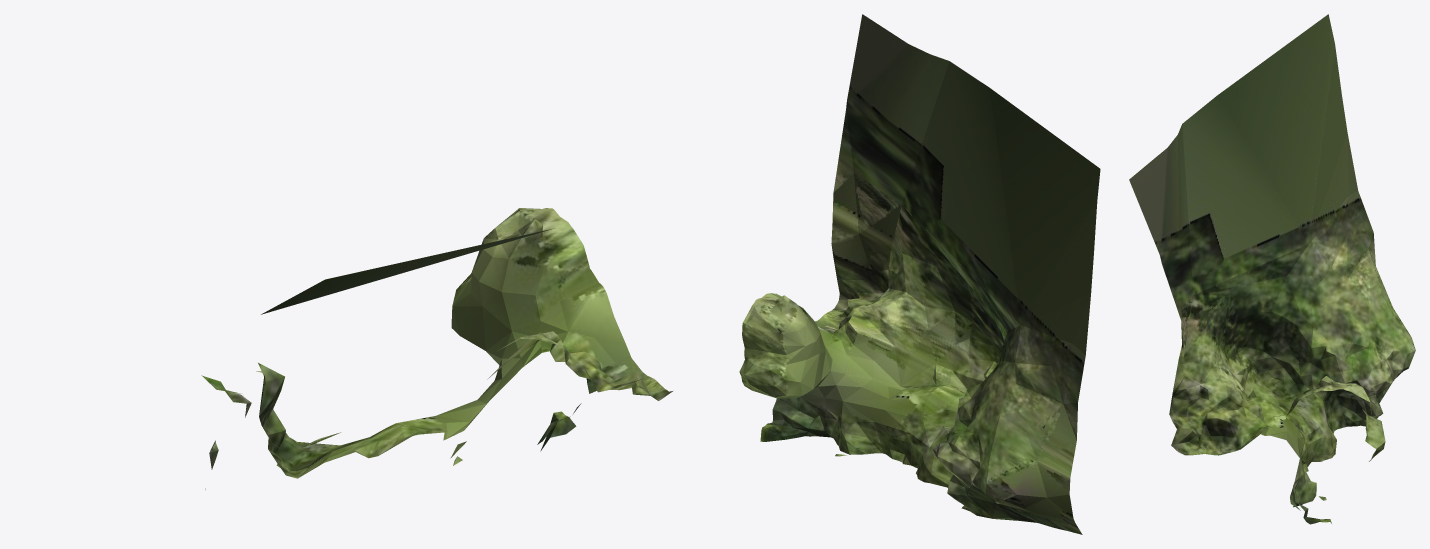
The picture shows the model from 3 angles, left to right: view 1: azimuth 30°, elevation 25°; view 2: azimuth 150°, elevation 25°; view 3: azimuth 270°, elevation 25°; orthographic projection. The views are drawn at different scales.
Bounding box in the file's own units: 26.11 × 26.11 × 19.11.
3 materials, 3 textured.
